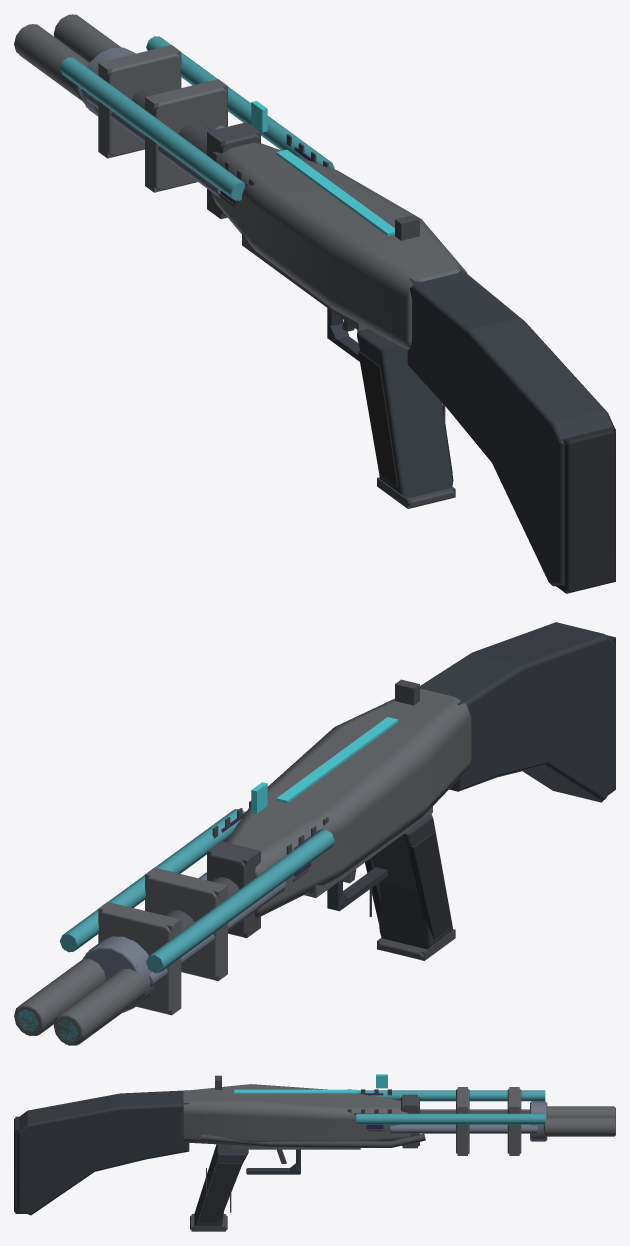
File: q_supershot.glb
3 renders of one model, top to bottom at view 1: azimuth 30°, elevation 25°; view 2: azimuth 150°, elevation 25°; view 3: azimuth 270°, elevation 25°, orthographic. The views are drawn at different scales.
Visible parts, largest first — view 1: L0, L1; view 2: L0, L1; view 3: L0, L1.
Part boxes in pixels (x1=…): L0: x1=14, y1=14, x2=615, y2=592; L1: x1=19, y1=14, x2=615, y2=593; L0: x1=14, y1=622, x2=615, y2=1045; L1: x1=17, y1=635, x2=615, y2=1044; L0: x1=14, y1=1074, x2=615, y2=1230; L1: x1=15, y1=1087, x2=614, y2=1231.
Bounding box in the file's own units: 0.077 × 0.1926 × 0.6998.
